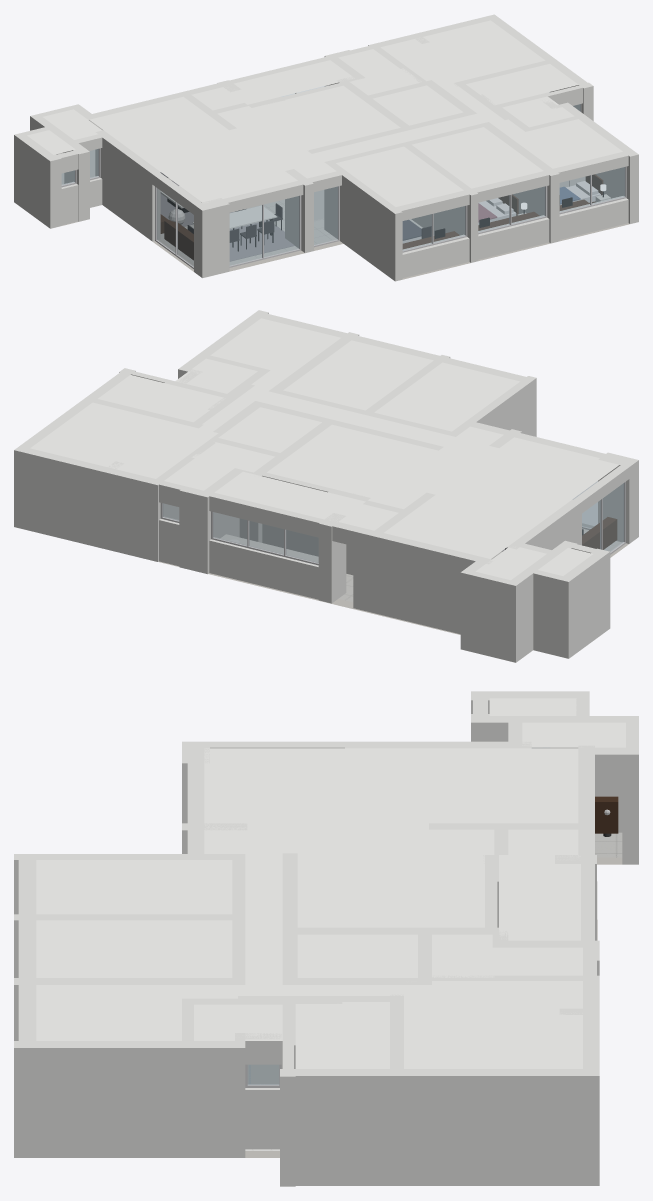
The model's file is modelo_moderno.glb.
3 renders of one model, top to bottom at view 1: azimuth 30°, elevation 25°; view 2: azimuth 150°, elevation 25°; view 3: azimuth 270°, elevation 25°, orthographic. The views are drawn at different scales.
Visible parts, largest first — view 1: Teto_Sala_0, Teto_Suíte master_0, Teto_Cozinha_1, Parede_37, Parede_08, Teto_Quarto 2_0, Teto_Quarto 1_0, Vidro_3, Parede_04, Teto_Suíte_1, Parede_09, Teto_Área de serviço_1 (+51 smaller); view 2: Teto_Sala_0, Parede_21, Parede_11, Teto_Suíte master_0, Teto_Cozinha_1, Teto_Quarto 2_0, Teto_Quarto 1_0, Parede_00, Teto_Suíte_1, Parede_04, Peitoril_5, Teto_Área de serviço_1 (+43 smaller); view 3: Parede_30, Teto_Sala_0, Parede_34, Teto_Suíte master_0, Teto_Cozinha_1, Teto_Quarto 2_0, Teto_Quarto 1_0, Teto_Suíte_1, Teto_Sala_1, Teto_Área de serviço_1, Teto_Banho social_0, Teto_Escritório_0 (+45 smaller).
Boxes of the visible parts, x1,y1,x2,y2 form: Teto_Sala_0: [89, 96, 297, 203]; Teto_Suíte master_0: [380, 20, 545, 86]; Teto_Cozinha_1: [251, 85, 400, 150]; Parede_37: [324, 160, 402, 281]; Parede_08: [95, 130, 160, 241]; Teto_Quarto 2_0: [412, 127, 543, 188]; Teto_Quarto 1_0: [336, 146, 463, 206]; Vidro_3: [230, 196, 299, 265]; Parede_04: [14, 135, 59, 228]; Teto_Suíte_1: [508, 119, 622, 168]; Parede_09: [194, 198, 229, 277]; Teto_Área de serviço_1: [225, 60, 354, 104]; Teto_Sala_0: [384, 437, 618, 558]; Parede_21: [14, 448, 155, 559]; Parede_11: [353, 527, 492, 634]; Teto_Suíte master_0: [30, 402, 218, 478]; Teto_Cozinha_1: [267, 424, 436, 497]; Teto_Quarto 2_0: [283, 340, 433, 410]; Teto_Quarto 1_0: [374, 362, 519, 431]; Parede_00: [460, 569, 520, 662]; Teto_Suíte_1: [210, 318, 340, 374]; Parede_04: [558, 549, 610, 658]; Peitoril_5: [209, 537, 318, 599]; Teto_Área de serviço_1: [214, 471, 365, 522]; Parede_30: [280, 1069, 599, 1185]; Teto_Sala_0: [204, 748, 578, 823]; Parede_34: [14, 1041, 245, 1157]; Teto_Suíte master_0: [404, 981, 582, 1068]; Teto_Cozinha_1: [297, 854, 484, 927]; Teto_Quarto 2_0: [36, 920, 232, 977]; Teto_Quarto 1_0: [36, 860, 232, 914]; Teto_Suíte_1: [36, 985, 181, 1040]; Teto_Sala_1: [204, 823, 428, 853]; Teto_Área de serviço_1: [499, 855, 580, 940]; Teto_Banho social_0: [295, 1002, 389, 1068]; Teto_Escritório_0: [297, 934, 417, 977].
Size of what is drawn, in the model's own units: 19.56 by 2.6 by 13.4.
25 materials, 2 textured.
